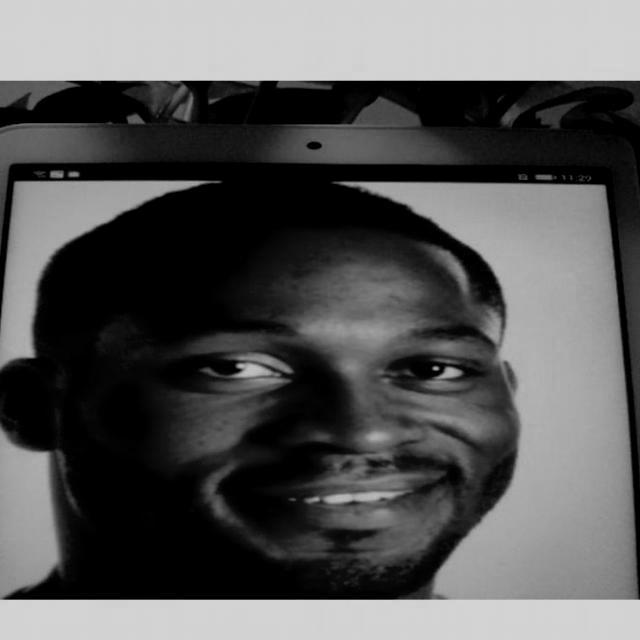fake: (0, 118, 640, 598)
